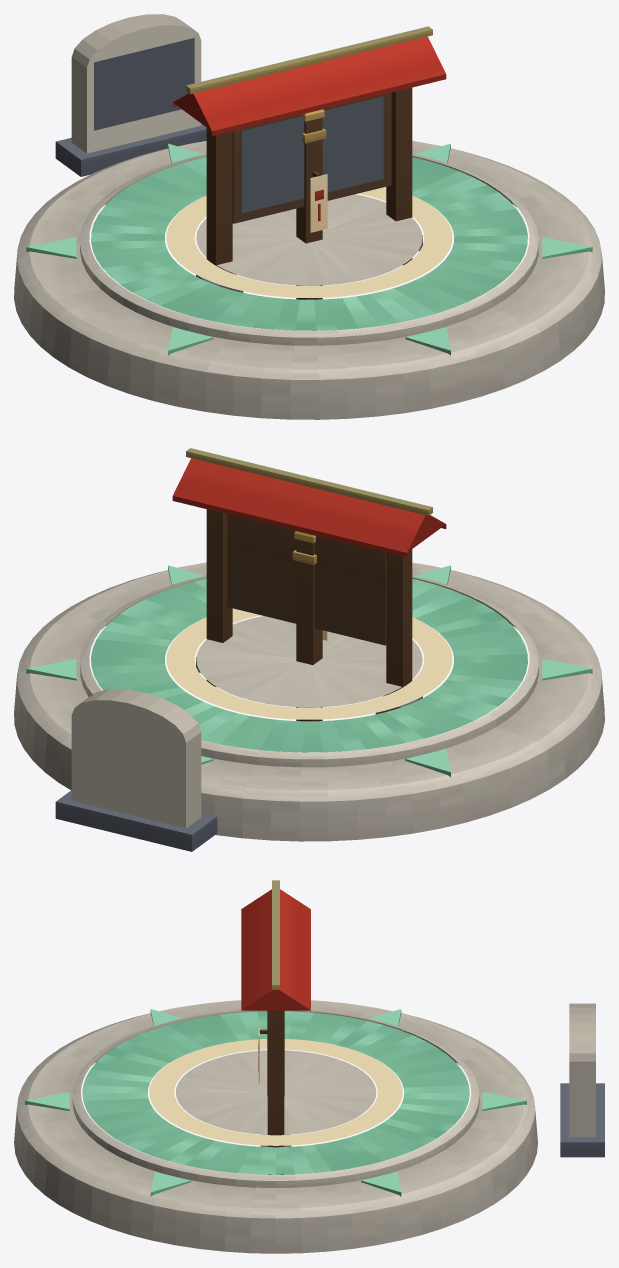
File: Yggdrasil_Kit.fbx
The picture shows the model from 3 angles, top to bottom: view 1: azimuth 30°, elevation 25°; view 2: azimuth 150°, elevation 25°; view 3: azimuth 270°, elevation 25°; orthographic projection. The views are drawn at different scales.
Parts seen in each view (by area): view 1: YG_SpawnDais, YG_PlotBoard, YG_SpawnDaisGlow, YG_PlotStake; view 2: YG_SpawnDais, YG_PlotBoard, YG_SpawnDaisGlow, YG_PlotStake; view 3: YG_SpawnDais, YG_PlotBoard, YG_SpawnDaisGlow.
Part boxes in pixels (box(x1,y1,x2,y2)): YG_SpawnDais: box(14, 14, 604, 419); YG_PlotBoard: box(172, 26, 446, 292); YG_SpawnDaisGlow: box(166, 187, 452, 297); YG_PlotStake: box(296, 109, 327, 299); YG_SpawnDais: box(14, 562, 604, 851); YG_PlotBoard: box(172, 448, 446, 714); YG_SpawnDaisGlow: box(166, 608, 452, 719); YG_PlotStake: box(292, 531, 327, 721); YG_SpawnDais: box(14, 1000, 604, 1253); YG_PlotBoard: box(241, 880, 310, 1174); YG_SpawnDaisGlow: box(149, 1039, 402, 1145).
Size of the model in its own units: 18.8 by 8.93 by 21.2.
1 material, 1 textured.
